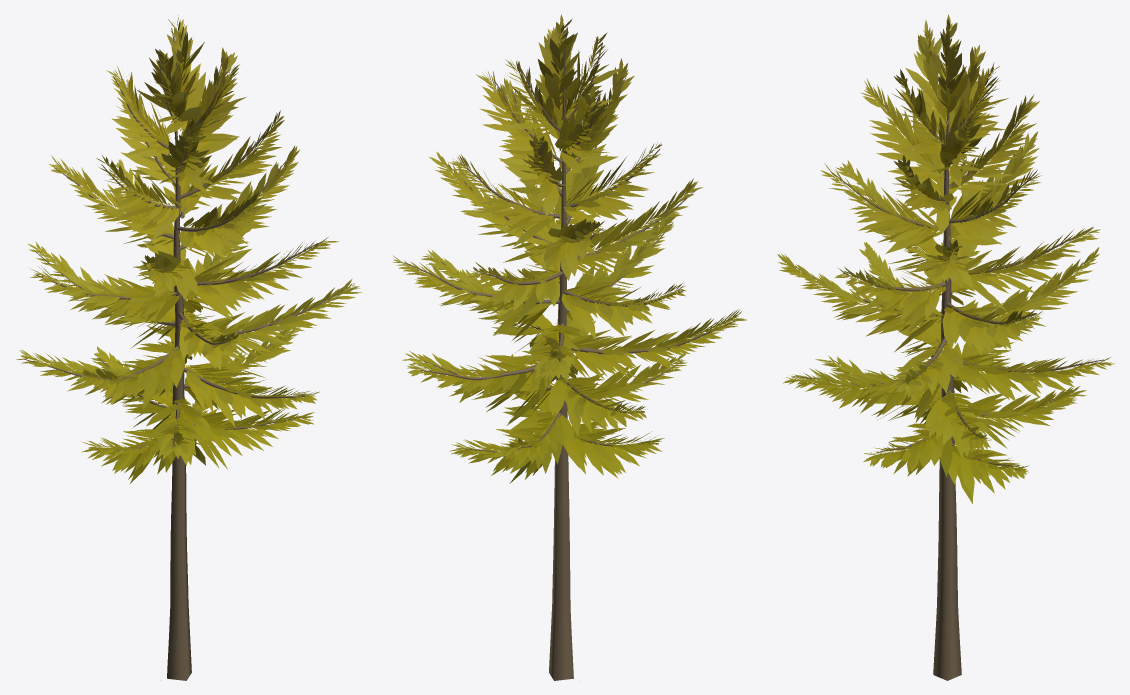
Rendered from tree_yellow.fbx.
3 views of the same model, side by side, from view 1: azimuth 30°, elevation 25°; view 2: azimuth 150°, elevation 25°; view 3: azimuth 270°, elevation 25° (orthographic).
Visible parts, largest first — view 1: polySurface7816, polySurface2931; view 2: polySurface7816, polySurface2931; view 3: polySurface7816, polySurface2931.
Boxes of the visible parts, x1=… form: polySurface7816: x1=16, y1=15, x2=361, y2=483; polySurface2931: x1=23, y1=28, x2=348, y2=680; polySurface7816: x1=392, y1=14, x2=746, y2=483; polySurface2931: x1=405, y1=29, x2=739, y2=680; polySurface7816: x1=777, y1=14, x2=1114, y2=503; polySurface2931: x1=793, y1=70, x2=1103, y2=680.
Bounding box in the file's own units: 885 × 1818 × 851.
3 materials, 2 textured.
